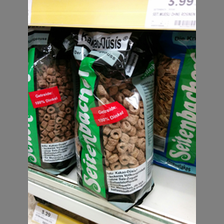cereal: (74, 28, 157, 214), (28, 26, 77, 175)
